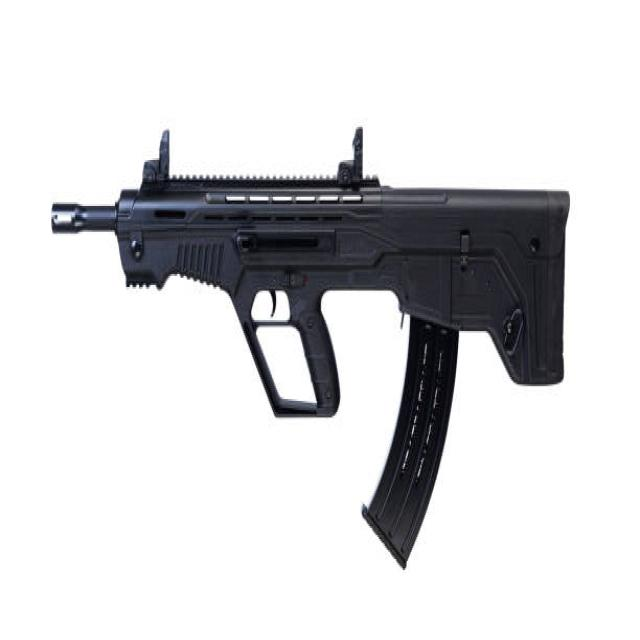rifle: (46, 114, 574, 594)
